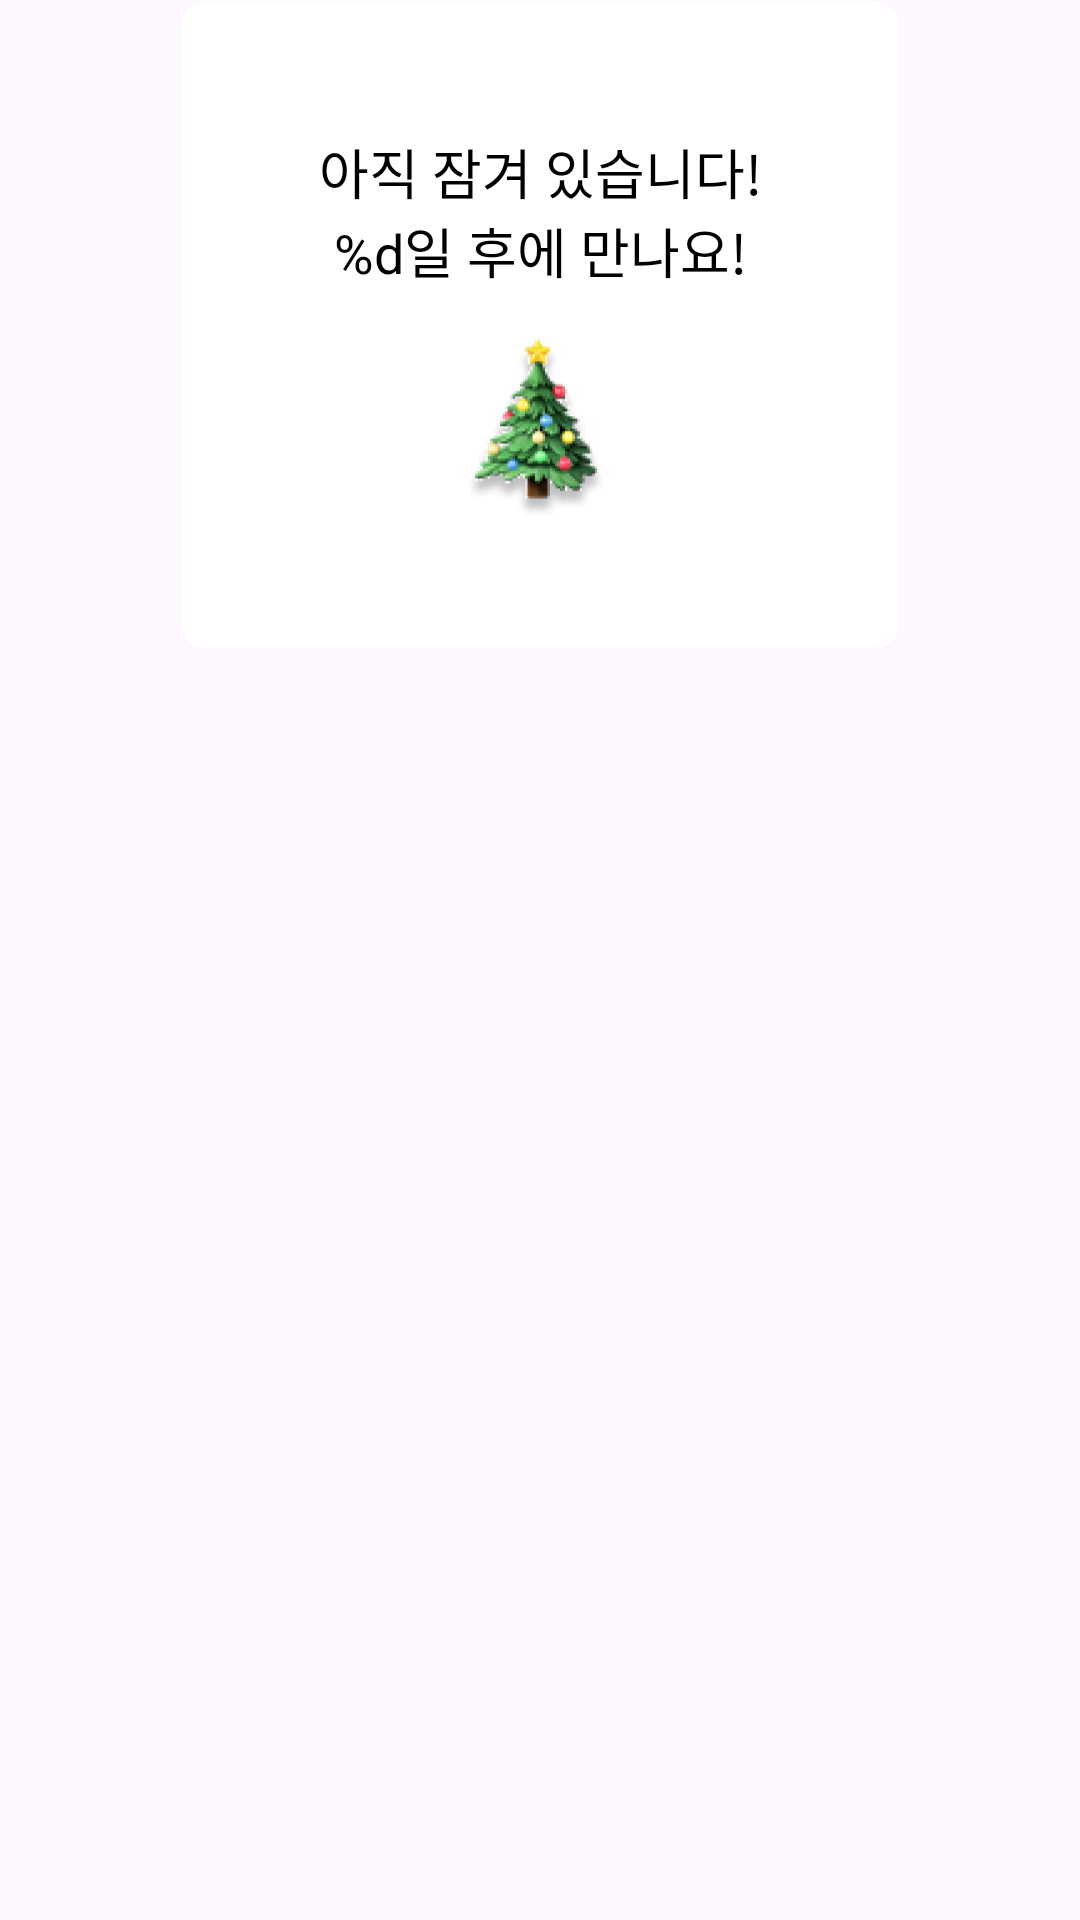

Icon bounding boxes for this 1080×1920 phone screenshot, format (x1, y1, x2, y2):
tree: (475, 339, 598, 510)
